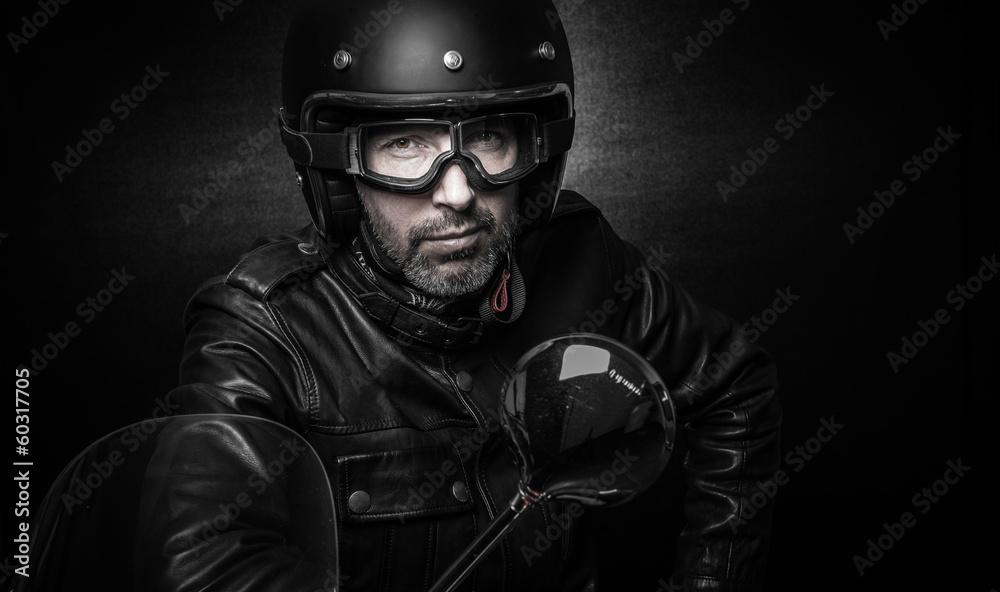helmet: (275, 0, 578, 332)
